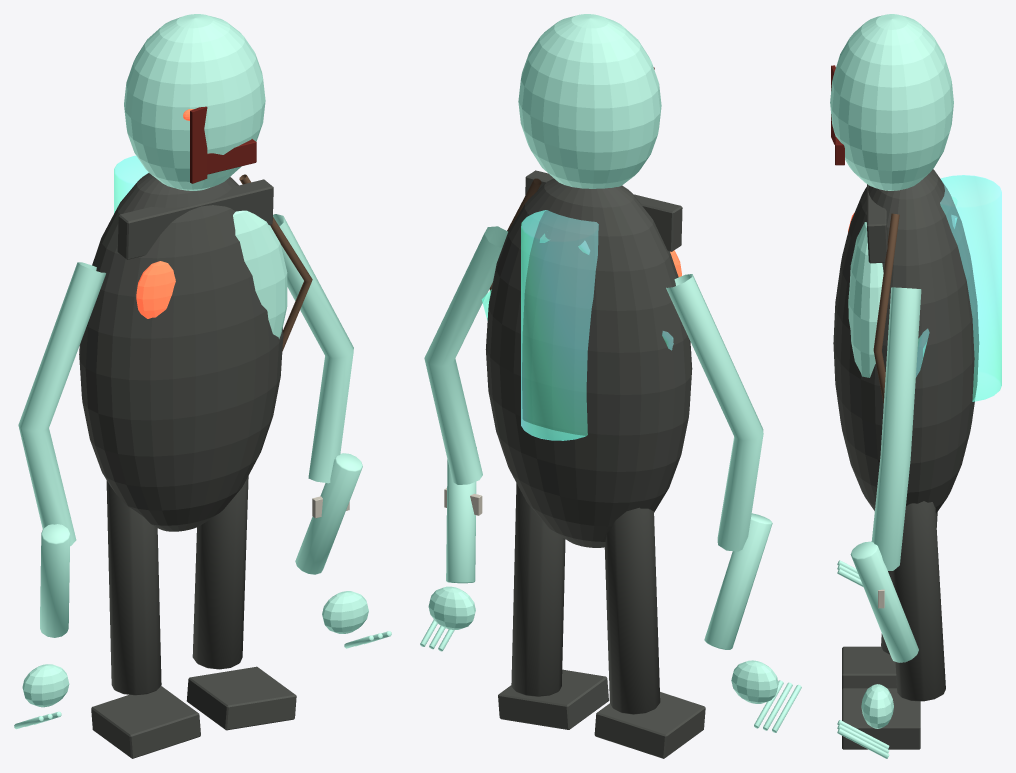
Rendered from dz_enemy_lab_male_B.glb.
3 views of the same model, side by side, from view 1: azimuth 30°, elevation 25°; view 2: azimuth 150°, elevation 25°; view 3: azimuth 270°, elevation 25° (orthographic). The views are drawn at different scales.
Visible parts, largest first — view 1: dz_torso_core, dz_head_forward, dz_limb_leg_L, dz_limb_arm_L, dz_limb_leg_R, dz_limb_arm_R, dz_foot_drag_L, dz_foot_drag_R, dz_torn_collar_male, dz_chest_infected_growth, dz_limb_forearm_R, dz_limb_forearm_L (+7 smaller); view 2: dz_torso_core, dz_head_forward, dz_back_lab_tank, dz_limb_leg_L, dz_limb_leg_R, dz_limb_arm_L, dz_limb_arm_R, dz_foot_drag_L, dz_foot_drag_R, dz_limb_forearm_L, dz_limb_forearm_R, dz_torn_collar_male (+2 smaller); view 3: dz_torso_core, dz_head_forward, dz_back_lab_tank, dz_limb_arm_R, dz_limb_leg_R, dz_chest_infected_growth, dz_limb_forearm_R, dz_foot_drag_R, dz_foot_drag_L, dz_variant_B_loose_cable_or_hair, dz_torn_collar_male, dz_hand_claw_R (+2 smaller).
Boxes of the visible parts, left/top/right/bottom form: dz_torso_core: left=79, top=173, right=283, bottom=531; dz_head_forward: left=124, top=14, right=265, bottom=190; dz_limb_leg_L: left=106, top=480, right=161, bottom=695; dz_limb_arm_L: left=18, top=262, right=105, bottom=546; dz_limb_leg_R: left=192, top=476, right=248, bottom=669; dz_limb_arm_R: left=273, top=214, right=353, bottom=483; dz_foot_drag_L: left=91, top=686, right=200, bottom=758; dz_foot_drag_R: left=186, top=666, right=296, bottom=730; dz_torn_collar_male: left=117, top=179, right=273, bottom=259; dz_chest_infected_growth: left=233, top=210, right=287, bottom=338; dz_limb_forearm_R: left=295, top=453, right=362, bottom=574; dz_limb_forearm_L: left=40, top=524, right=70, bottom=637; dz_torso_core: left=485, top=178, right=692, bottom=547; dz_head_forward: left=518, top=14, right=661, bottom=188; dz_back_lab_tank: left=521, top=210, right=598, bottom=440; dz_limb_leg_L: left=604, top=507, right=660, bottom=714; dz_limb_leg_R: left=511, top=483, right=565, bottom=696; dz_limb_arm_L: left=666, top=274, right=763, bottom=551; dz_limb_arm_R: left=424, top=226, right=507, bottom=484; dz_foot_drag_L: left=594, top=692, right=705, bottom=758; dz_foot_drag_R: left=498, top=669, right=608, bottom=729; dz_limb_forearm_L: left=704, top=513, right=772, bottom=649; dz_limb_forearm_R: left=446, top=447, right=476, bottom=583; dz_torn_collar_male: left=525, top=170, right=682, bottom=251; dz_torso_core: left=833, top=169, right=979, bottom=513; dz_head_forward: left=830, top=14, right=953, bottom=190; dz_back_lab_tank: left=940, top=175, right=1001, bottom=401; dz_limb_arm_R: left=871, top=287, right=921, bottom=570; dz_limb_leg_R: left=890, top=501, right=945, bottom=701; dz_chest_infected_growth: left=848, top=222, right=883, bottom=377; dz_limb_forearm_R: left=850, top=541, right=918, bottom=662; dz_foot_drag_R: left=842, top=688, right=920, bottom=749; dz_foot_drag_L: left=842, top=646, right=896, bottom=688; dz_variant_B_loose_cable_or_hair: left=873, top=213, right=899, bottom=403; dz_torn_collar_male: left=867, top=184, right=887, bottom=263; dz_hand_claw_R: left=861, top=684, right=893, bottom=728.
Size of what is drawn, in the model's own units: 1.13 by 2.14 by 0.4798.
